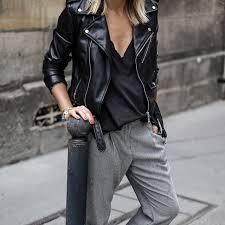jacket: (41, 0, 167, 132)
pants: (87, 126, 179, 225)
